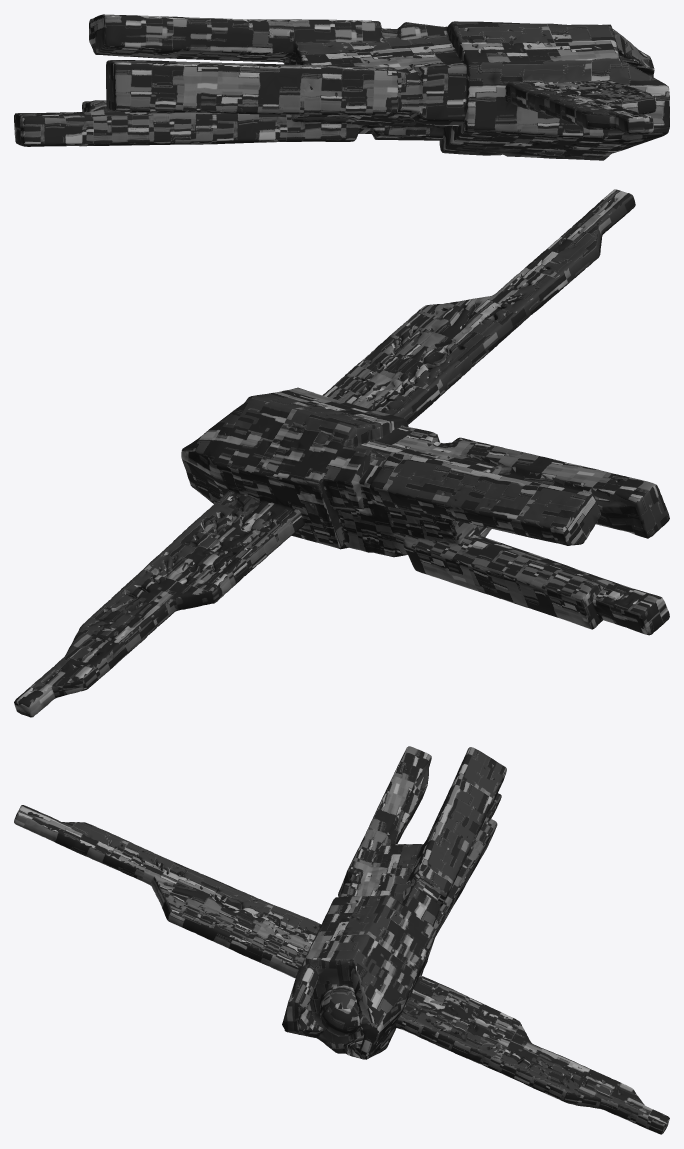
File: xenonita.obj
3 views of the same model, one above another, from view 1: azimuth 30°, elevation 25°; view 2: azimuth 150°, elevation 25°; view 3: azimuth 270°, elevation 25° (orthographic). The views are drawn at different scales.
Parts seen in each view (by area): view 1: tripo_node_84c3ea4f-e4c6-46f6-9379-01dbf11c3e23_Material.088; view 2: tripo_node_84c3ea4f-e4c6-46f6-9379-01dbf11c3e23_Material.088; view 3: tripo_node_84c3ea4f-e4c6-46f6-9379-01dbf11c3e23_Material.088.
Boxes of the visible parts, <box> form: tripo_node_84c3ea4f-e4c6-46f6-9379-01dbf11c3e23_Material.088: <box>14,14,669,160</box>; tripo_node_84c3ea4f-e4c6-46f6-9379-01dbf11c3e23_Material.088: <box>14,189,669,717</box>; tripo_node_84c3ea4f-e4c6-46f6-9379-01dbf11c3e23_Material.088: <box>14,746,669,1134</box>.
Size of the model in its own units: 0.792 by 0.4034 by 1.
